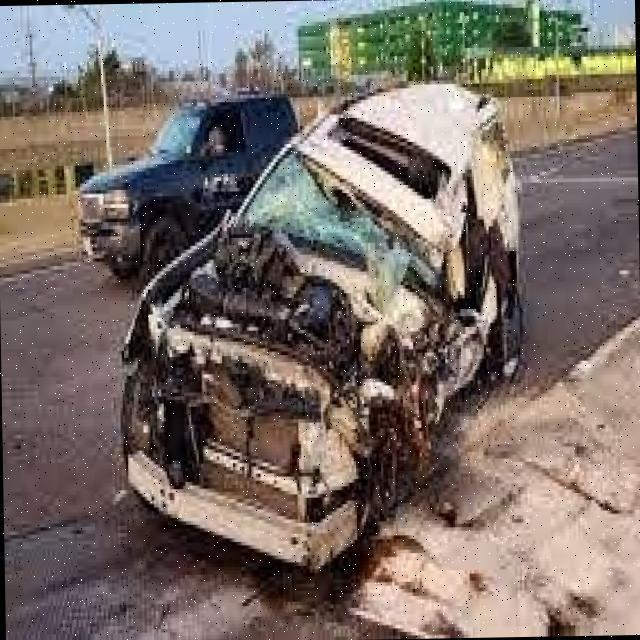accident: (112, 56, 558, 581)
